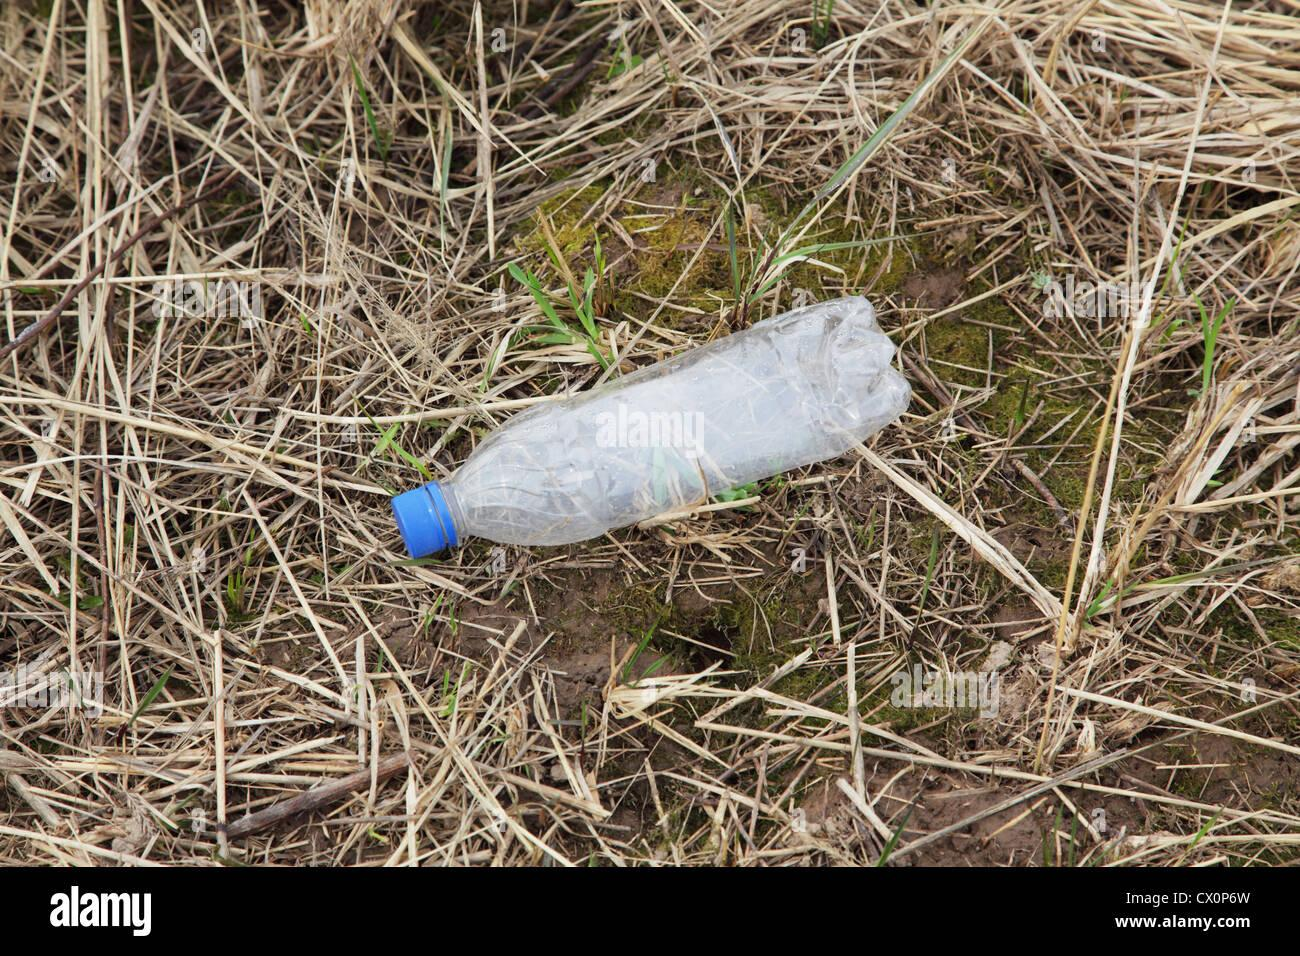plastic_bottle: (370, 301, 920, 558)
